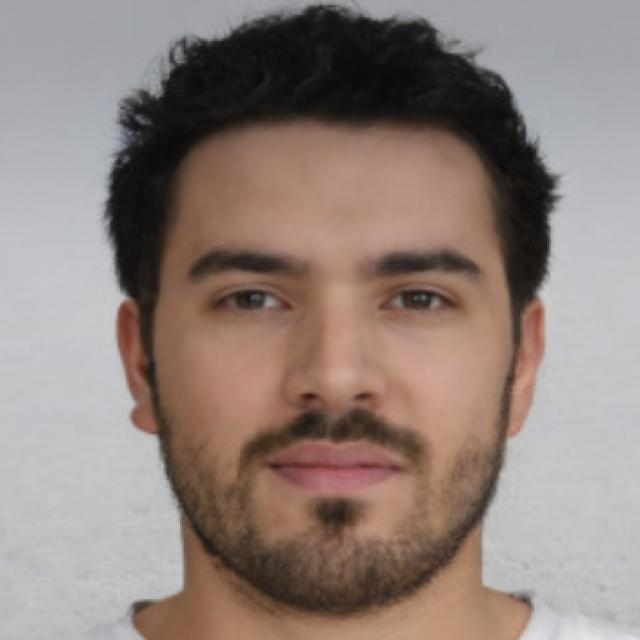natural: (92, 0, 558, 623)
